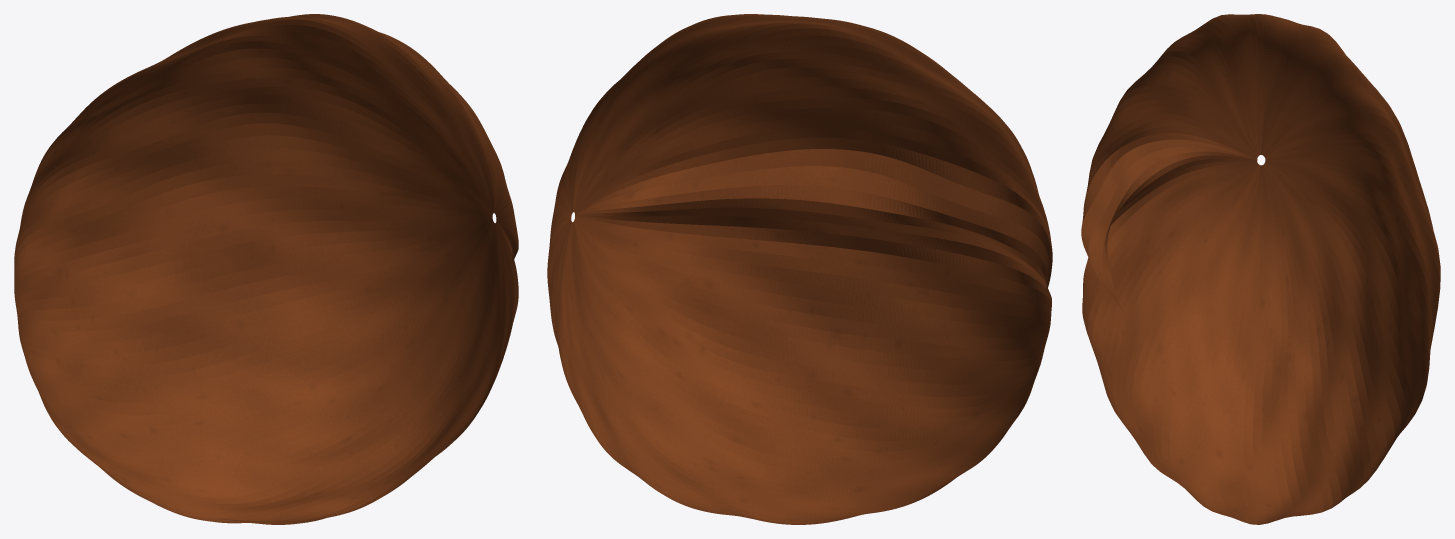
Rendered from catuai.glb.
3 renders of one model, left to right at view 1: azimuth 30°, elevation 25°; view 2: azimuth 150°, elevation 25°; view 3: azimuth 270°, elevation 25°, orthographic. The views are drawn at different scales.
Parts seen in each view (by area): view 1: world; view 2: world; view 3: world.
Boxes of the visible parts, <box> form: world: <box>14,14,518,524</box>; world: <box>547,14,1052,524</box>; world: <box>1081,14,1440,524</box>.
Bounding box in the file's own units: 0.9798 × 0.9985 × 0.729.
1 material, 1 textured.
